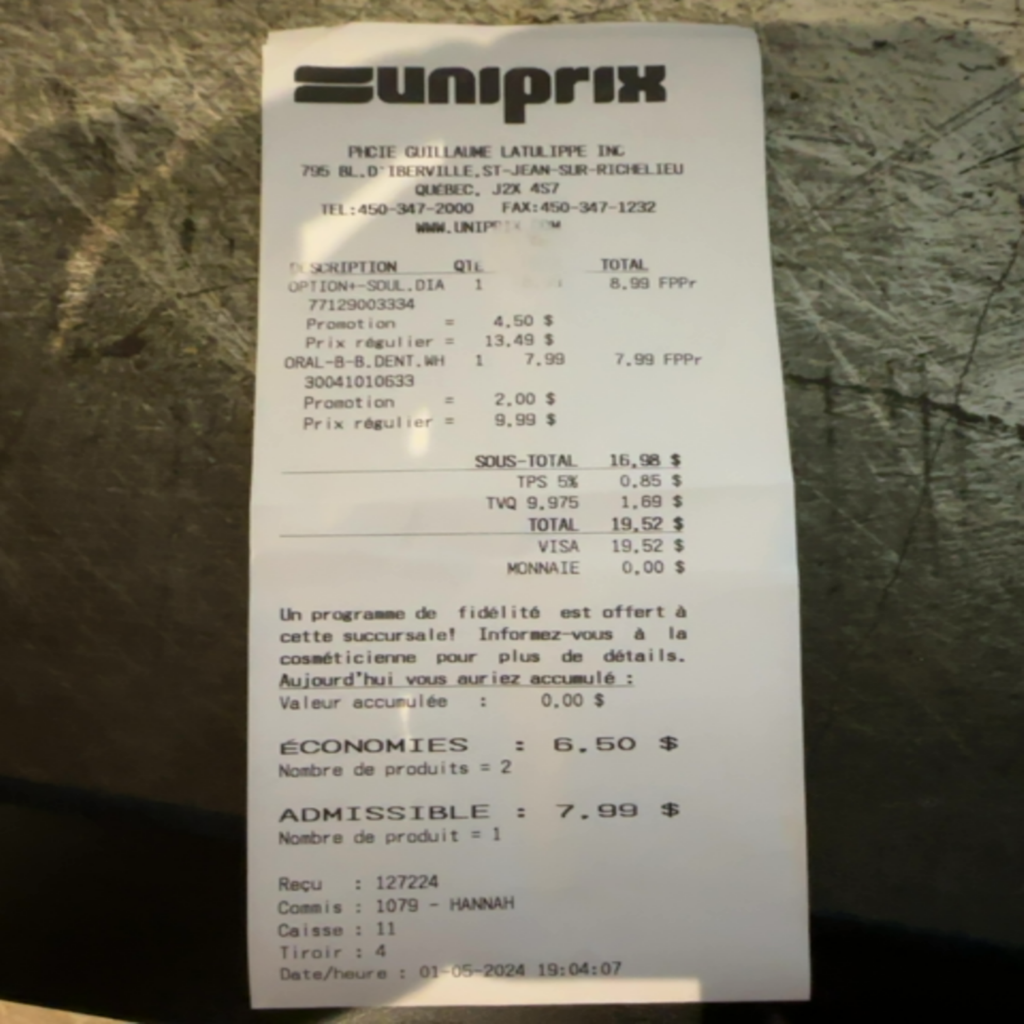recipt: (246, 25, 806, 1005)
